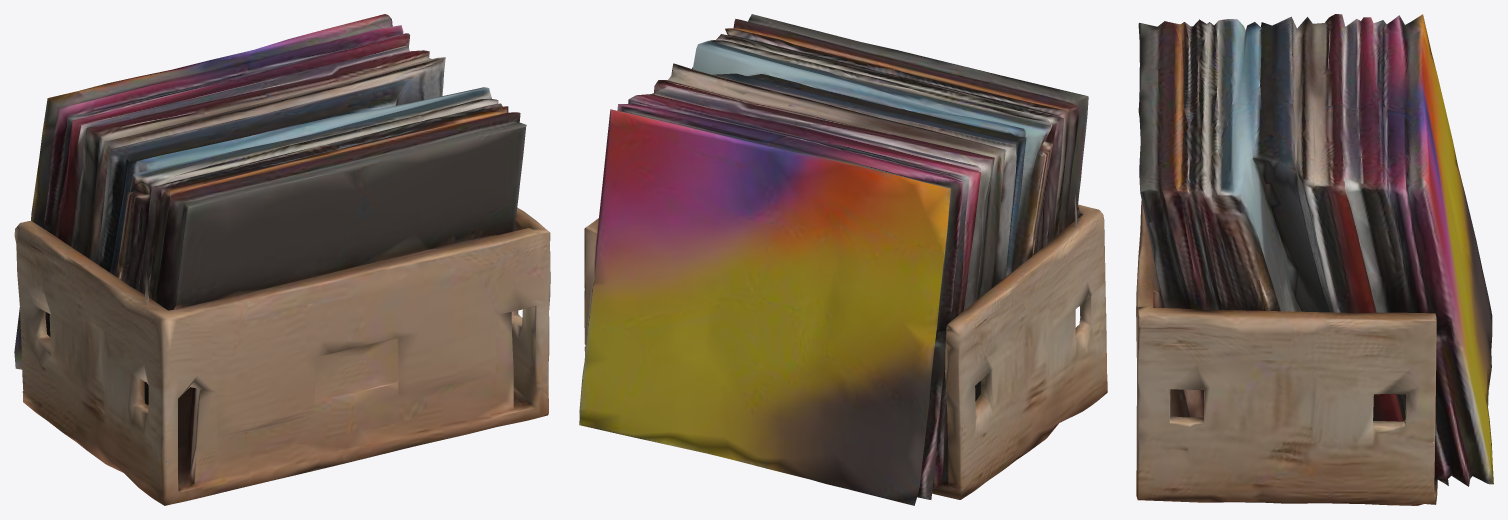
File: vinylcrate-v2.glb
3 renders of one model, left to right at view 1: azimuth 30°, elevation 25°; view 2: azimuth 150°, elevation 25°; view 3: azimuth 270°, elevation 25°, orthographic. The views are drawn at different scales.
Visible parts, largest first — view 1: prop__vinylcrate; view 2: prop__vinylcrate; view 3: prop__vinylcrate.
Part boxes in pixels (box(x1,y1,x2,y2)): prop__vinylcrate: box(14, 14, 550, 505); prop__vinylcrate: box(579, 14, 1107, 505); prop__vinylcrate: box(1136, 14, 1493, 505).
Bounding box in the file's own units: 0.4729 × 0.36 × 0.3732.
1 material, 1 textured.
